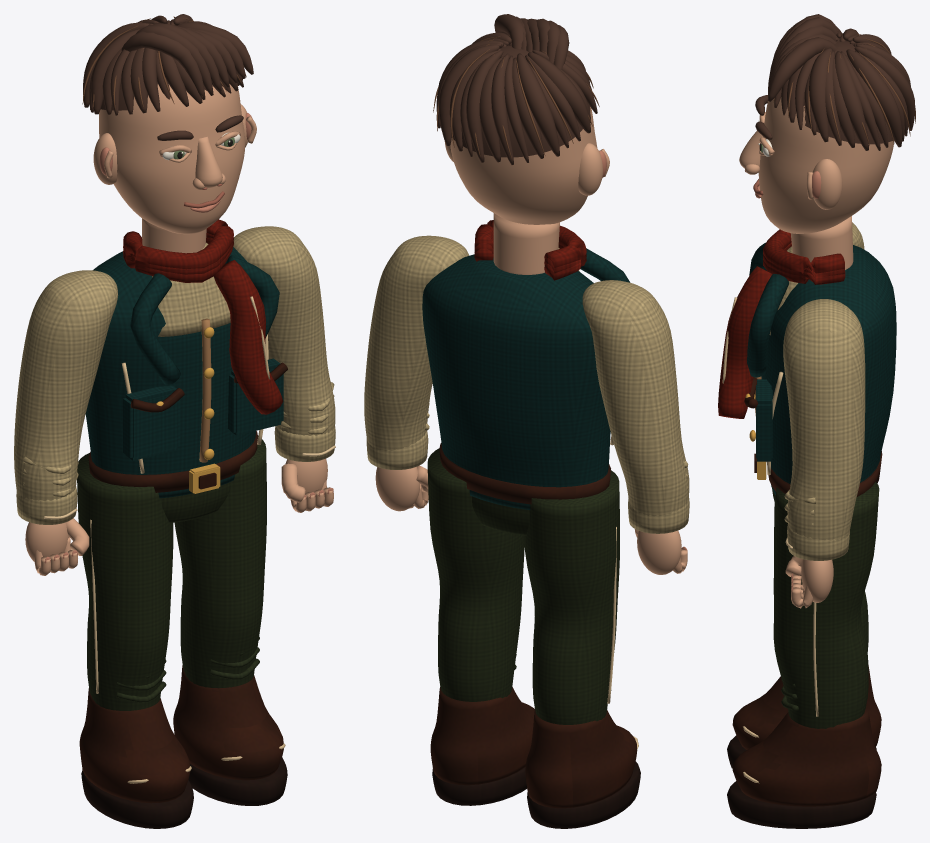
The model's file is acrobat.glb.
3 views of the same model, side by side, from view 1: azimuth 30°, elevation 25°; view 2: azimuth 150°, elevation 25°; view 3: azimuth 270°, elevation 25° (orthographic).
Parts seen in each view (by area): view 1: GEO-acrobat-Body-coatDetail, GEO-acrobat-LeftLeg-trousers.001, GEO-acrobat-LeftArm-shirt, GEO-acrobat-RightLeg-trousers.001, GEO-acrobat-Head-skinDetail, GEO-acrobat-Head-hairDetail, GEO-acrobat-RightArm-shirt, GEO-acrobat-Body-scarf.001, GEO-acrobat-LeftLeg-leatherDetail, GEO-acrobat-RightLeg-leatherDetail, GEO-acrobat-Body-leatherDetail, GEO-acrobat-Body-shirt (+10 smaller); view 2: GEO-acrobat-Body-coatDetail, GEO-acrobat-LeftLeg-trousers.001, GEO-acrobat-LeftArm-shirt, GEO-acrobat-Head-hairDetail, GEO-acrobat-RightLeg-trousers.001, GEO-acrobat-RightArm-shirt, GEO-acrobat-Head-skinDetail, GEO-acrobat-LeftLeg-leatherDetail, GEO-acrobat-RightLeg-leatherDetail, GEO-acrobat-Body-skinDetail, GEO-acrobat-Body-leatherDetail, GEO-acrobat-LeftLeg-darkwood.001 (+6 smaller); view 3: GEO-acrobat-RightArm-shirt, GEO-acrobat-RightLeg-trousers.001, GEO-acrobat-Body-coatDetail, GEO-acrobat-Head-hairDetail, GEO-acrobat-Head-skinDetail, GEO-acrobat-RightLeg-leatherDetail, GEO-acrobat-Body-scarf.001, GEO-acrobat-RightLeg-darkwood.001, GEO-acrobat-LeftLeg-leatherDetail, GEO-acrobat-RightArm-skinDetail, GEO-acrobat-Body-skinDetail, GEO-acrobat-Body-leatherDetail (+4 smaller).
Part boxes in pixels (x1=…): GEO-acrobat-Body-coatDetail: x1=85, y1=247, x2=283, y2=498; GEO-acrobat-LeftLeg-trousers.001: x1=77, y1=453, x2=173, y2=710; GEO-acrobat-LeftArm-shirt: x1=14, y1=270, x2=118, y2=524; GEO-acrobat-RightLeg-trousers.001: x1=174, y1=436, x2=266, y2=688; GEO-acrobat-Head-skinDetail: x1=93, y1=84, x2=256, y2=234; GEO-acrobat-Head-hairDetail: x1=83, y1=14, x2=253, y2=140; GEO-acrobat-RightArm-shirt: x1=233, y1=226, x2=335, y2=461; GEO-acrobat-Body-scarf.001: x1=123, y1=219, x2=283, y2=414; GEO-acrobat-LeftLeg-leatherDetail: x1=79, y1=688, x2=190, y2=803; GEO-acrobat-RightLeg-leatherDetail: x1=173, y1=665, x2=283, y2=780; GEO-acrobat-Body-leatherDetail: x1=88, y1=362, x2=287, y2=492; GEO-acrobat-Body-shirt: x1=152, y1=242, x2=230, y2=336; GEO-acrobat-Body-coatDetail: x1=422, y1=248, x2=630, y2=510; GEO-acrobat-LeftLeg-trousers.001: x1=524, y1=470, x2=619, y2=724; GEO-acrobat-LeftArm-shirt: x1=582, y1=280, x2=689, y2=533; GEO-acrobat-Head-hairDetail: x1=436, y1=14, x2=597, y2=164; GEO-acrobat-RightLeg-trousers.001: x1=427, y1=448, x2=524, y2=701; GEO-acrobat-RightArm-shirt: x1=364, y1=235, x2=468, y2=469; GEO-acrobat-Head-skinDetail: x1=444, y1=107, x2=609, y2=224; GEO-acrobat-LeftLeg-leatherDetail: x1=525, y1=710, x2=637, y2=808; GEO-acrobat-RightLeg-leatherDetail: x1=430, y1=687, x2=534, y2=785; GEO-acrobat-Body-skinDetail: x1=493, y1=213, x2=559, y2=274; GEO-acrobat-Body-leatherDetail: x1=439, y1=443, x2=610, y2=504; GEO-acrobat-LeftLeg-darkwood.001: x1=527, y1=761, x2=640, y2=828; GEO-acrobat-RightArm-shirt: x1=783, y1=299, x2=865, y2=560; GEO-acrobat-RightLeg-trousers.001: x1=773, y1=482, x2=879, y2=728; GEO-acrobat-Body-coatDetail: x1=747, y1=242, x2=896, y2=494; GEO-acrobat-Head-hairDetail: x1=755, y1=14, x2=915, y2=150; GEO-acrobat-Head-skinDetail: x1=739, y1=97, x2=894, y2=233; GEO-acrobat-RightLeg-leatherDetail: x1=732, y1=706, x2=881, y2=806; GEO-acrobat-Body-scarf.001: x1=718, y1=229, x2=845, y2=418; GEO-acrobat-RightLeg-darkwood.001: x1=727, y1=781, x2=876, y2=828; GEO-acrobat-LeftLeg-leatherDetail: x1=732, y1=665, x2=881, y2=749; GEO-acrobat-RightArm-skinDetail: x1=785, y1=556, x2=833, y2=608; GEO-acrobat-Body-skinDetail: x1=790, y1=216, x2=853, y2=269; GEO-acrobat-Body-leatherDetail: x1=744, y1=377, x2=882, y2=496.
Bounding box in the file's own units: 0.964 × 2.26 × 0.5338.
17 materials, 6 textured.
